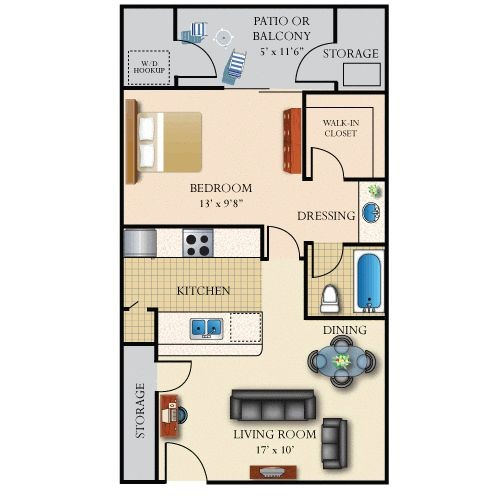door: (170, 31, 226, 89), (287, 32, 341, 90), (158, 438, 214, 486), (154, 352, 199, 400), (305, 239, 350, 282), (263, 220, 304, 263), (307, 145, 351, 180), (144, 302, 164, 360)
room: (155, 346, 390, 488), (123, 89, 308, 228), (173, 5, 388, 94), (120, 228, 308, 317), (301, 91, 389, 184), (304, 241, 387, 320), (305, 178, 386, 245), (123, 5, 182, 92), (125, 343, 160, 486)
wall: (379, 2, 397, 491), (114, 2, 128, 492), (119, 1, 391, 14), (207, 474, 397, 492), (115, 217, 266, 235), (300, 311, 383, 333), (116, 79, 225, 93), (295, 89, 310, 184), (149, 389, 163, 486), (299, 86, 390, 100), (301, 237, 315, 323), (326, 2, 343, 42), (115, 475, 165, 487), (256, 222, 269, 266)
